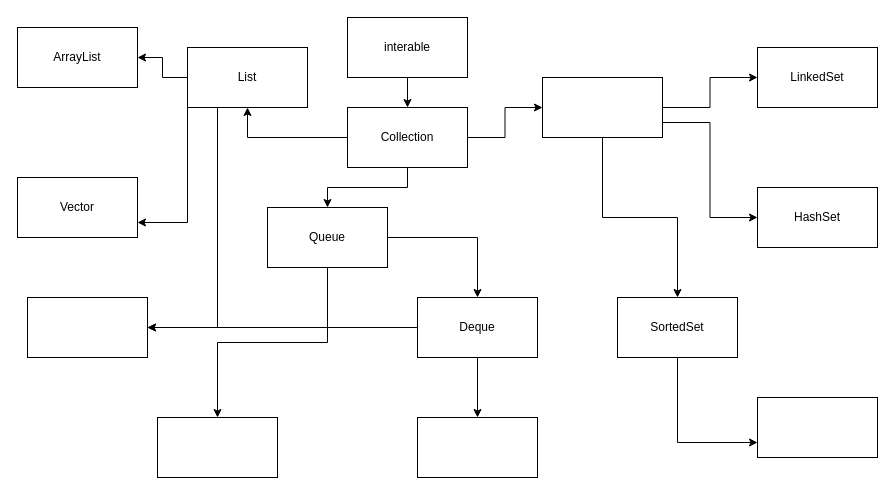
The diagram is 895 pixels wide and 495 high, and some of its shapes have lost their labels. The box of each missing label's shape, as (x1, y1, x2, y2) in pixels:
ArrayQueue: (416, 416, 538, 478)
LinkedList: (26, 296, 148, 358)
PriorityQueue: (156, 416, 278, 478)
Set: (542, 76, 662, 138)
TreeSet: (756, 396, 878, 458)
